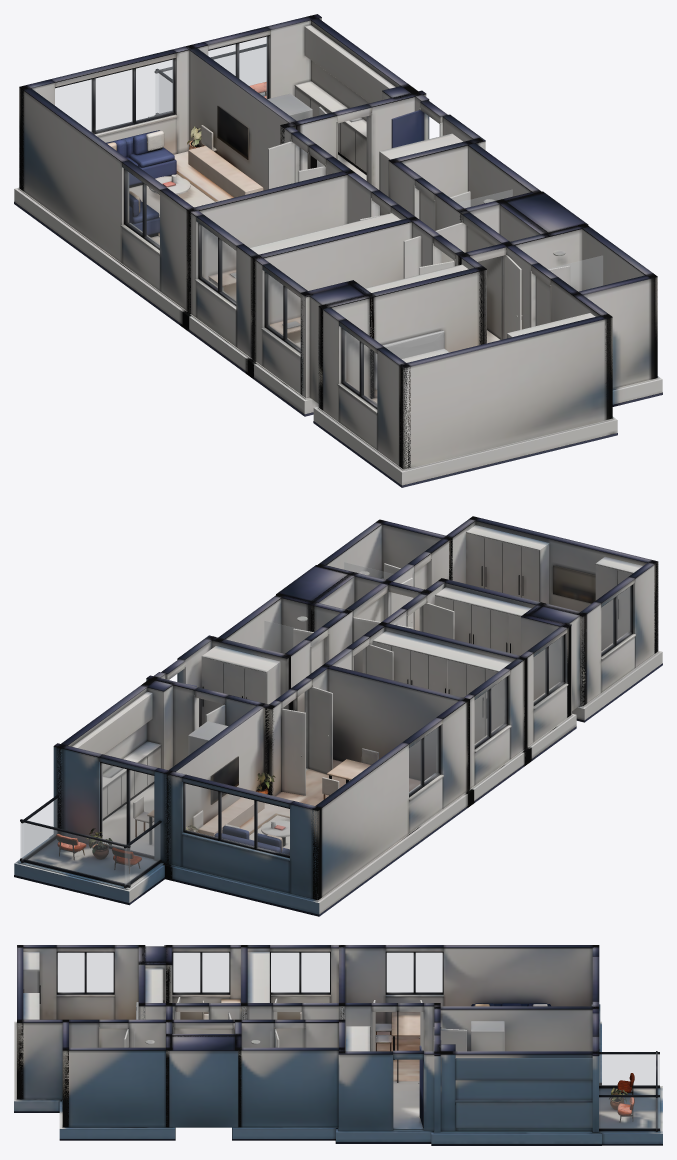
3 views of the same model, one above another, from view 1: azimuth 30°, elevation 25°; view 2: azimuth 150°, elevation 25°; view 3: azimuth 270°, elevation 25° (orthographic). The views are drawn at different scales.
Parts seen in each view (by area): view 1: plan, glass0_m, glass1_m, glass3_m, glass5_m, glass2_m, glass4_m, railg0_m, sg.001_m; view 2: plan, glass0_m, railg0_m, glass1_m, glass3_m, railg3_m, glass2_m, glass4_m, glass5_m, railg4_m, sg_m; view 3: plan, glass3_m, glass2_m, glass4_m, glass5_m, railg4_m, railg3_m.
Part boxes in pixels (left/top/right/bottom): plan: left=14, top=14, right=662, bottom=487; glass0_m: left=55, top=60, right=173, bottom=131; glass1_m: left=208, top=37, right=267, bottom=98; glass3_m: left=200, top=225, right=235, bottom=302; glass5_m: left=343, top=330, right=376, bottom=405; glass2_m: left=126, top=171, right=159, bottom=246; glass4_m: left=267, top=274, right=300, bottom=349; railg0_m: left=156, top=47, right=265, bottom=114; sg.001_m: left=549, top=256, right=602, bottom=291; plan: left=14, top=516, right=662, bottom=916; glass0_m: left=185, top=784, right=289, bottom=855; railg0_m: left=20, top=822, right=129, bottom=884; glass1_m: left=102, top=763, right=153, bottom=855; glass3_m: left=475, top=677, right=506, bottom=745; railg3_m: left=125, top=824, right=160, bottom=884; glass2_m: left=409, top=727, right=438, bottom=794; glass4_m: left=534, top=636, right=563, bottom=702; glass5_m: left=601, top=586, right=630, bottom=653; railg4_m: left=22, top=799, right=57, bottom=859; sg_m: left=264, top=621, right=299, bottom=653; plan: left=14, top=945, right=662, bottom=1145; glass3_m: left=271, top=953, right=329, bottom=992; glass2_m: left=387, top=953, right=442, bottom=992; glass4_m: left=173, top=953, right=228, bottom=992; glass5_m: left=58, top=953, right=113, bottom=992; railg4_m: left=599, top=1097, right=659, bottom=1128; railg3_m: left=599, top=1054, right=659, bottom=1085.
Bounding box in the file's own units: 7.11 × 2.62 × 17.28.
2 materials, 1 textured.
